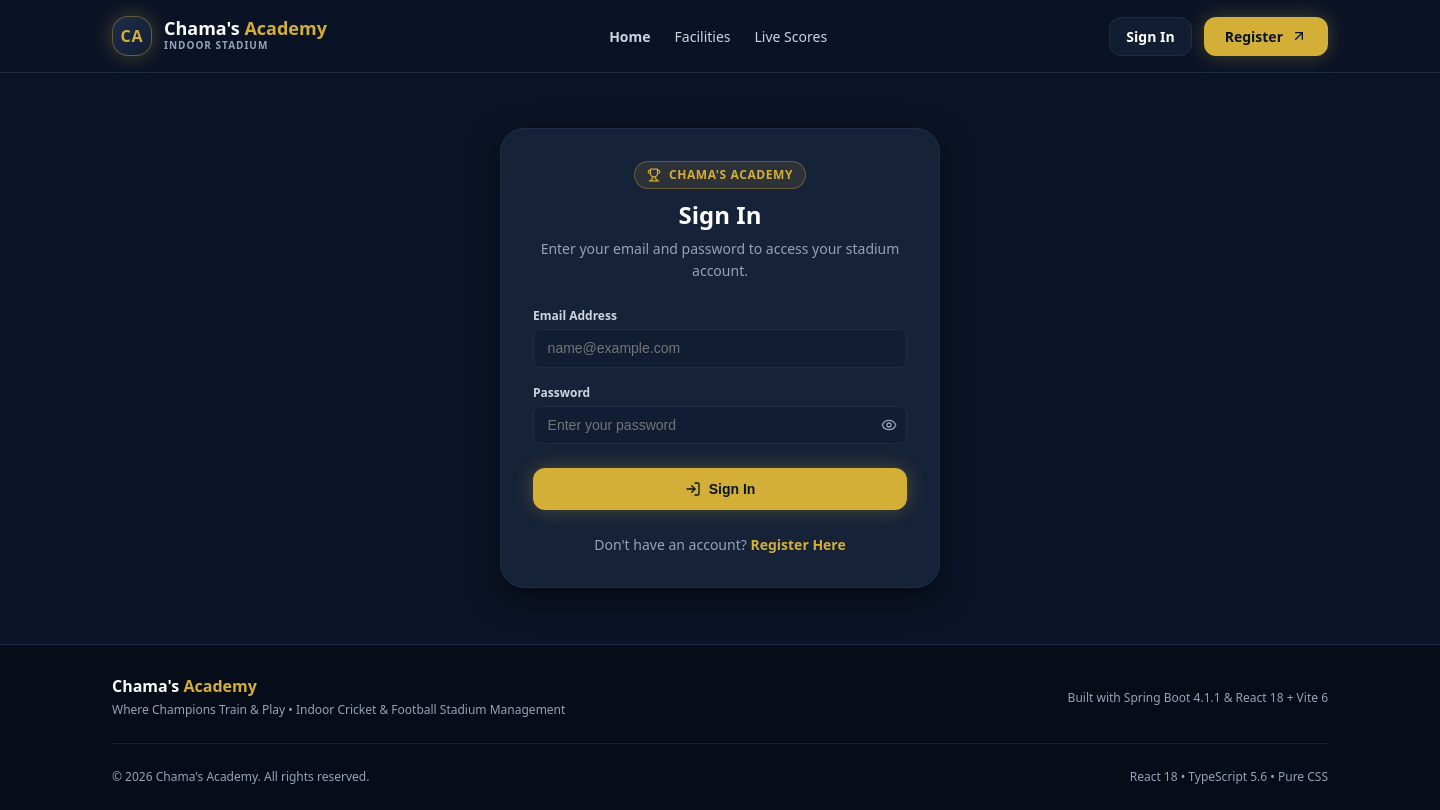
Test: Login Page Component and Flow › authenticates valid credentials, stores in-memory token, and redirects to dashboard
Type "player@example.com" into the field labelled "Email Address".
click(720, 348); type("player@example.com")  # box left=533, top=329, right=907, bottom=368
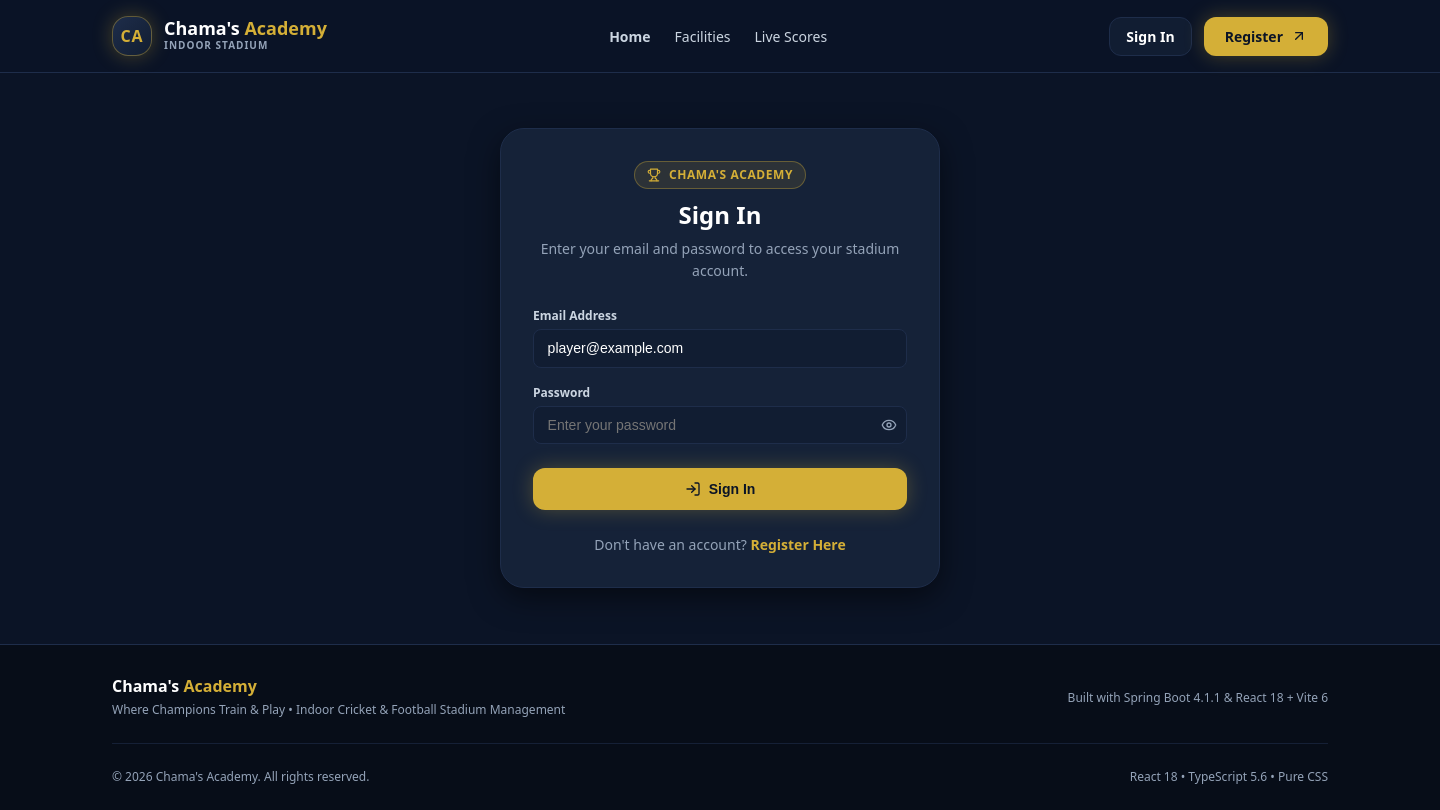
Type "PlayerPass123!" into the password field labelled "Password".
click(720, 425); type("PlayerPass123!")  # box left=533, top=406, right=907, bottom=444
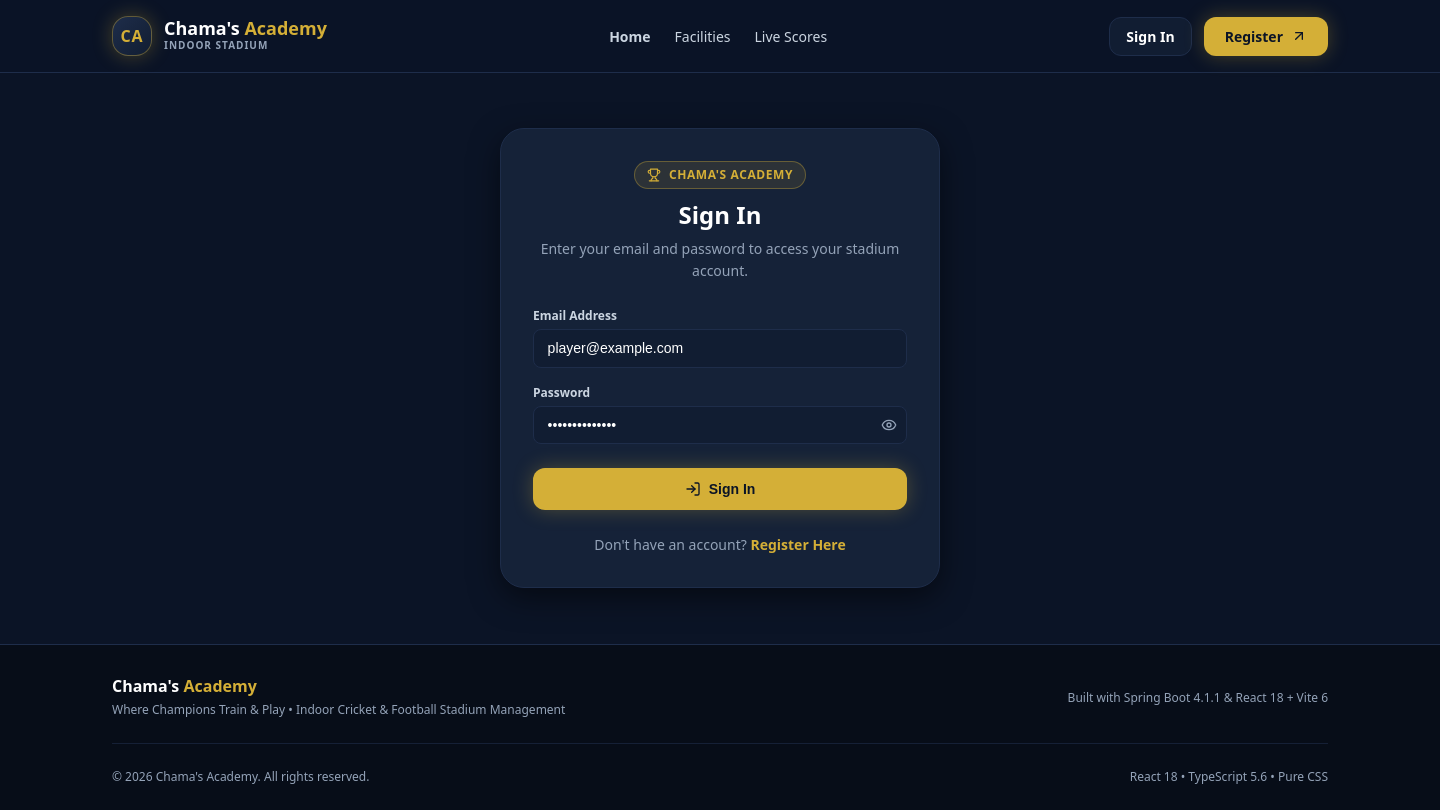
Click the button "Sign In".
click(720, 489)  # box left=533, top=468, right=907, bottom=510
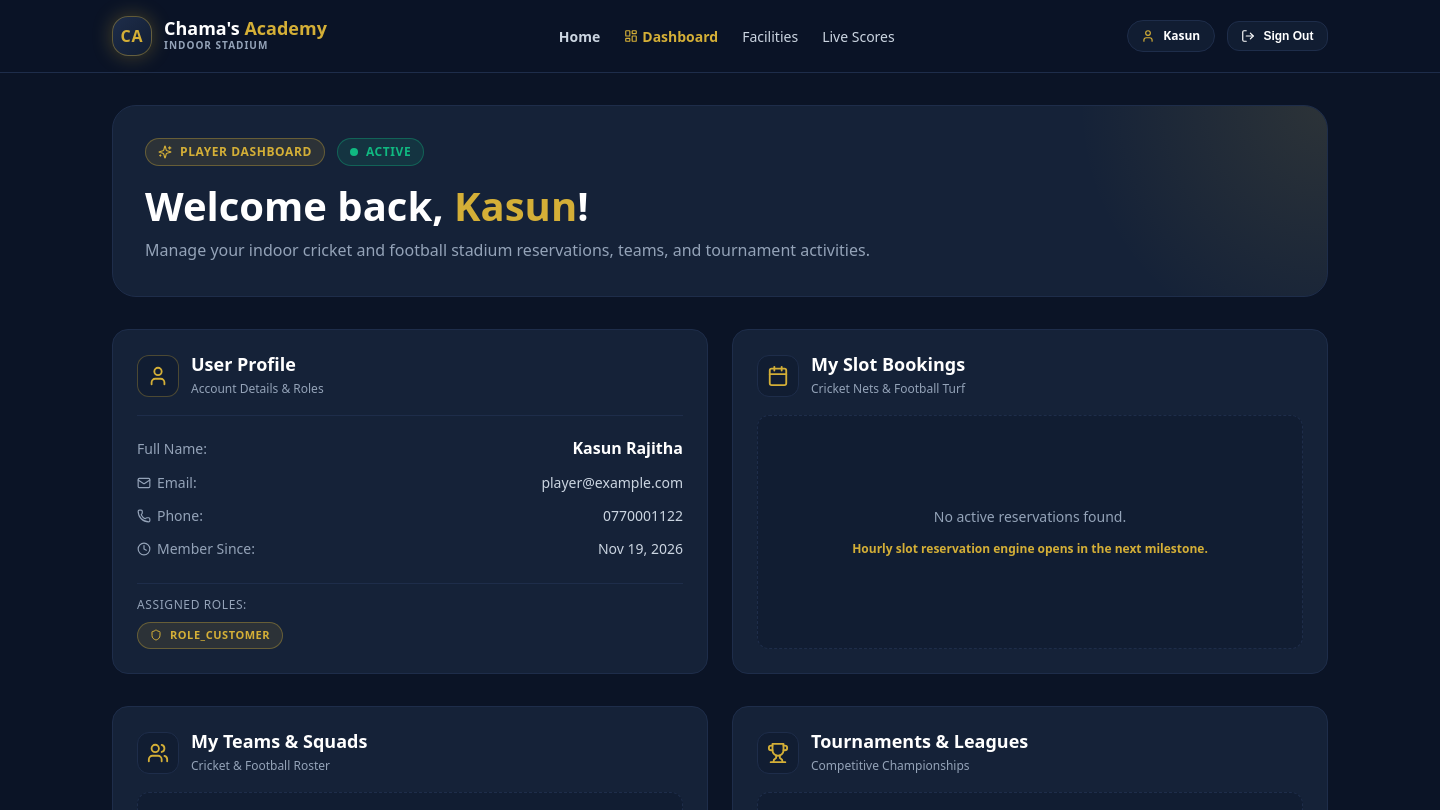
Expected: the heading "Welcome back, Kasun!" is shown, left=145, top=178, right=589, bottom=233
Expected: the text "Kasun" in the row of "Live Scores" is shown, left=1163, top=27, right=1200, bottom=44
Expected: the text "player@example.com" is shown, left=541, top=472, right=683, bottom=493
